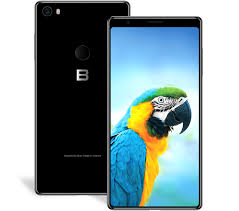bphone: (30, 1, 136, 198), (103, 13, 207, 208)
